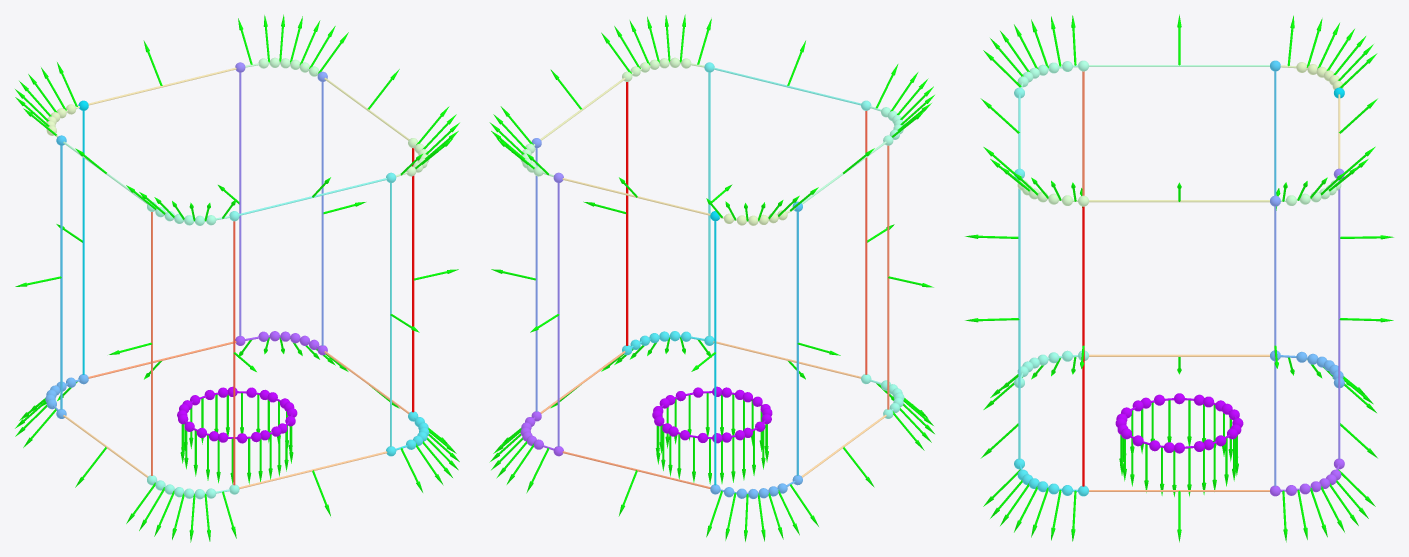
Rendered from onshape_simple_shape.gltf.
The picture shows the model from 3 angles, left to right: view 1: azimuth 30°, elevation 25°; view 2: azimuth 150°, elevation 25°; view 3: azimuth 270°, elevation 25°; orthographic projection. The views are drawn at different scales.
Bounding box in the file's own units: 0.7772 × 0.7484 × 0.7771.
